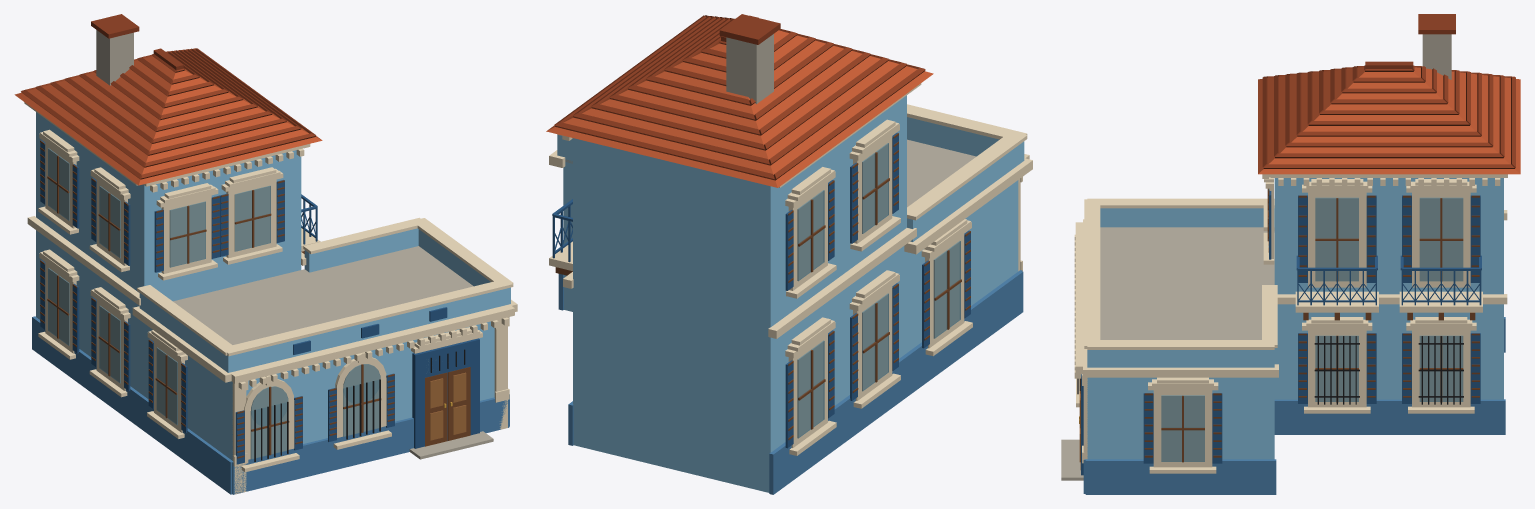
The model's file is casa-celeste-l-teja.glb.
3 views of the same model, side by side, from view 1: azimuth 30°, elevation 25°; view 2: azimuth 150°, elevation 25°; view 3: azimuth 270°, elevation 25° (orthographic). The views are drawn at different scales.
Parts seen in each view (by area): view 1: Casa_Celeste_L_Teja_Crema, Casa_Celeste_L_Teja_MuroCeleste, Casa_Celeste_L_Teja_Vidrio, Casa_Celeste_L_Teja_LosaTecho, Casa_Celeste_L_Teja_Teja, Casa_Celeste_L_Teja_TejaOscura, Casa_Celeste_L_Teja_AzulOscuro, Casa_Celeste_L_Teja_ZocaloAzul, Casa_Celeste_L_Teja_Madera, Casa_Celeste_L_Teja_Piedra, Casa_Celeste_L_Teja_MaderaClara, Casa_Celeste_L_Teja_Hierro; view 2: Casa_Celeste_L_Teja_MuroCeleste, Casa_Celeste_L_Teja_Crema, Casa_Celeste_L_Teja_Teja, Casa_Celeste_L_Teja_TejaOscura, Casa_Celeste_L_Teja_Vidrio, Casa_Celeste_L_Teja_ZocaloAzul, Casa_Celeste_L_Teja_AzulOscuro, Casa_Celeste_L_Teja_Madera, Casa_Celeste_L_Teja_Piedra, Casa_Celeste_L_Teja_LosaTecho; view 3: Casa_Celeste_L_Teja_Crema, Casa_Celeste_L_Teja_MuroCeleste, Casa_Celeste_L_Teja_LosaTecho, Casa_Celeste_L_Teja_Teja, Casa_Celeste_L_Teja_TejaOscura, Casa_Celeste_L_Teja_Vidrio, Casa_Celeste_L_Teja_ZocaloAzul, Casa_Celeste_L_Teja_AzulOscuro, Casa_Celeste_L_Teja_Madera, Casa_Celeste_L_Teja_Hierro, Casa_Celeste_L_Teja_Piedra.
Boxes of the visible parts, left/top/right/bottom form: Casa_Celeste_L_Teja_Crema: left=24, top=102, right=517, bottom=494; Casa_Celeste_L_Teja_MuroCeleste: left=36, top=112, right=510, bottom=460; Casa_Celeste_L_Teja_Vidrio: left=48, top=148, right=428, bottom=459; Casa_Celeste_L_Teja_LosaTecho: left=173, top=246, right=473, bottom=344; Casa_Celeste_L_Teja_Teja: left=14, top=56, right=322, bottom=185; Casa_Celeste_L_Teja_TejaOscura: left=21, top=14, right=316, bottom=179; Casa_Celeste_L_Teja_AzulOscuro: left=40, top=140, right=479, bottom=464; Casa_Celeste_L_Teja_ZocaloAzul: left=32, top=316, right=509, bottom=494; Casa_Celeste_L_Teja_Madera: left=40, top=140, right=470, bottom=458; Casa_Celeste_L_Teja_Piedra: left=96, top=30, right=493, bottom=459; Casa_Celeste_L_Teja_MaderaClara: left=430, top=372, right=466, bottom=440; Casa_Celeste_L_Teja_Hierro: left=254, top=349, right=465, bottom=461; Casa_Celeste_L_Teja_MuroCeleste: left=557, top=95, right=1024, bottom=492; Casa_Celeste_L_Teja_Crema: left=549, top=83, right=1032, bottom=455; Casa_Celeste_L_Teja_Teja: left=546, top=30, right=933, bottom=187; Casa_Celeste_L_Teja_TejaOscura: left=554, top=14, right=925, bottom=180; Casa_Celeste_L_Teja_Vidrio: left=797, top=143, right=960, bottom=438; Casa_Celeste_L_Teja_ZocaloAzul: left=558, top=270, right=1023, bottom=494; Casa_Celeste_L_Teja_AzulOscuro: left=552, top=133, right=970, bottom=448; Casa_Celeste_L_Teja_Madera: left=555, top=133, right=970, bottom=440; Casa_Celeste_L_Teja_Piedra: left=726, top=34, right=773, bottom=103; Casa_Celeste_L_Teja_LosaTecho: left=565, top=139, right=976, bottom=207; Casa_Celeste_L_Teja_Crema: left=1074, top=174, right=1507, bottom=473; Casa_Celeste_L_Teja_MuroCeleste: left=1087, top=178, right=1503, bottom=459; Casa_Celeste_L_Teja_LosaTecho: left=1100, top=227, right=1274, bottom=339; Casa_Celeste_L_Teja_Teja: left=1258, top=67, right=1520, bottom=174; Casa_Celeste_L_Teja_TejaOscura: left=1262, top=14, right=1515, bottom=168; Casa_Celeste_L_Teja_Vidrio: left=1161, top=188, right=1463, bottom=461; Casa_Celeste_L_Teja_ZocaloAzul: left=1083, top=317, right=1505, bottom=494; Casa_Celeste_L_Teja_AzulOscuro: left=1081, top=191, right=1481, bottom=475; Casa_Celeste_L_Teja_Madera: left=1080, top=188, right=1479, bottom=469; Casa_Celeste_L_Teja_Hierro: left=1077, top=336, right=1463, bottom=404; Casa_Celeste_L_Teja_Piedra: left=1061, top=34, right=1451, bottom=480.
Bounding box in the file's own units: 8.68 × 9.41 × 11.02.
